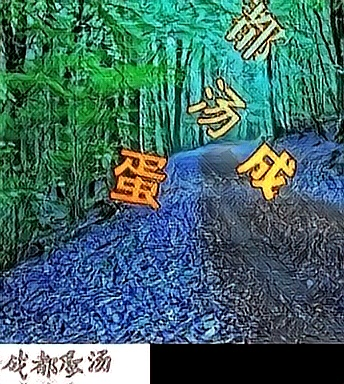B3C9: (234, 137, 297, 204)
B5B0: (107, 144, 170, 211)
B6BC: (221, 2, 284, 69)
CCC0: (183, 74, 246, 141)
